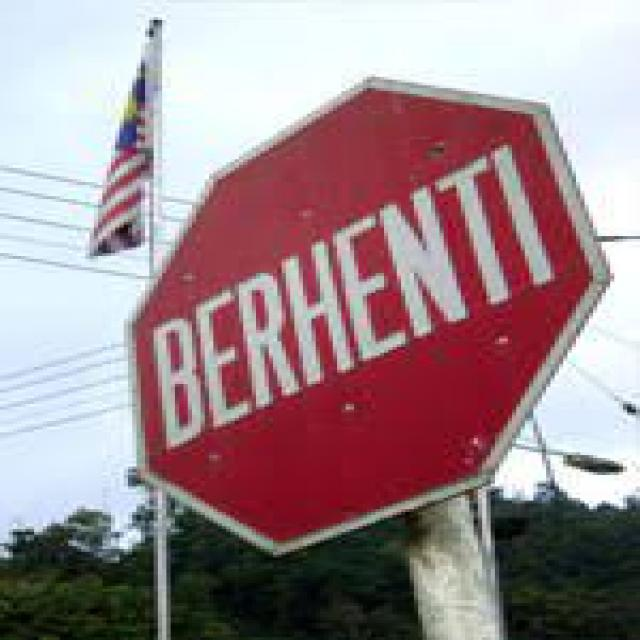stop-sign: (129, 85, 640, 511)
